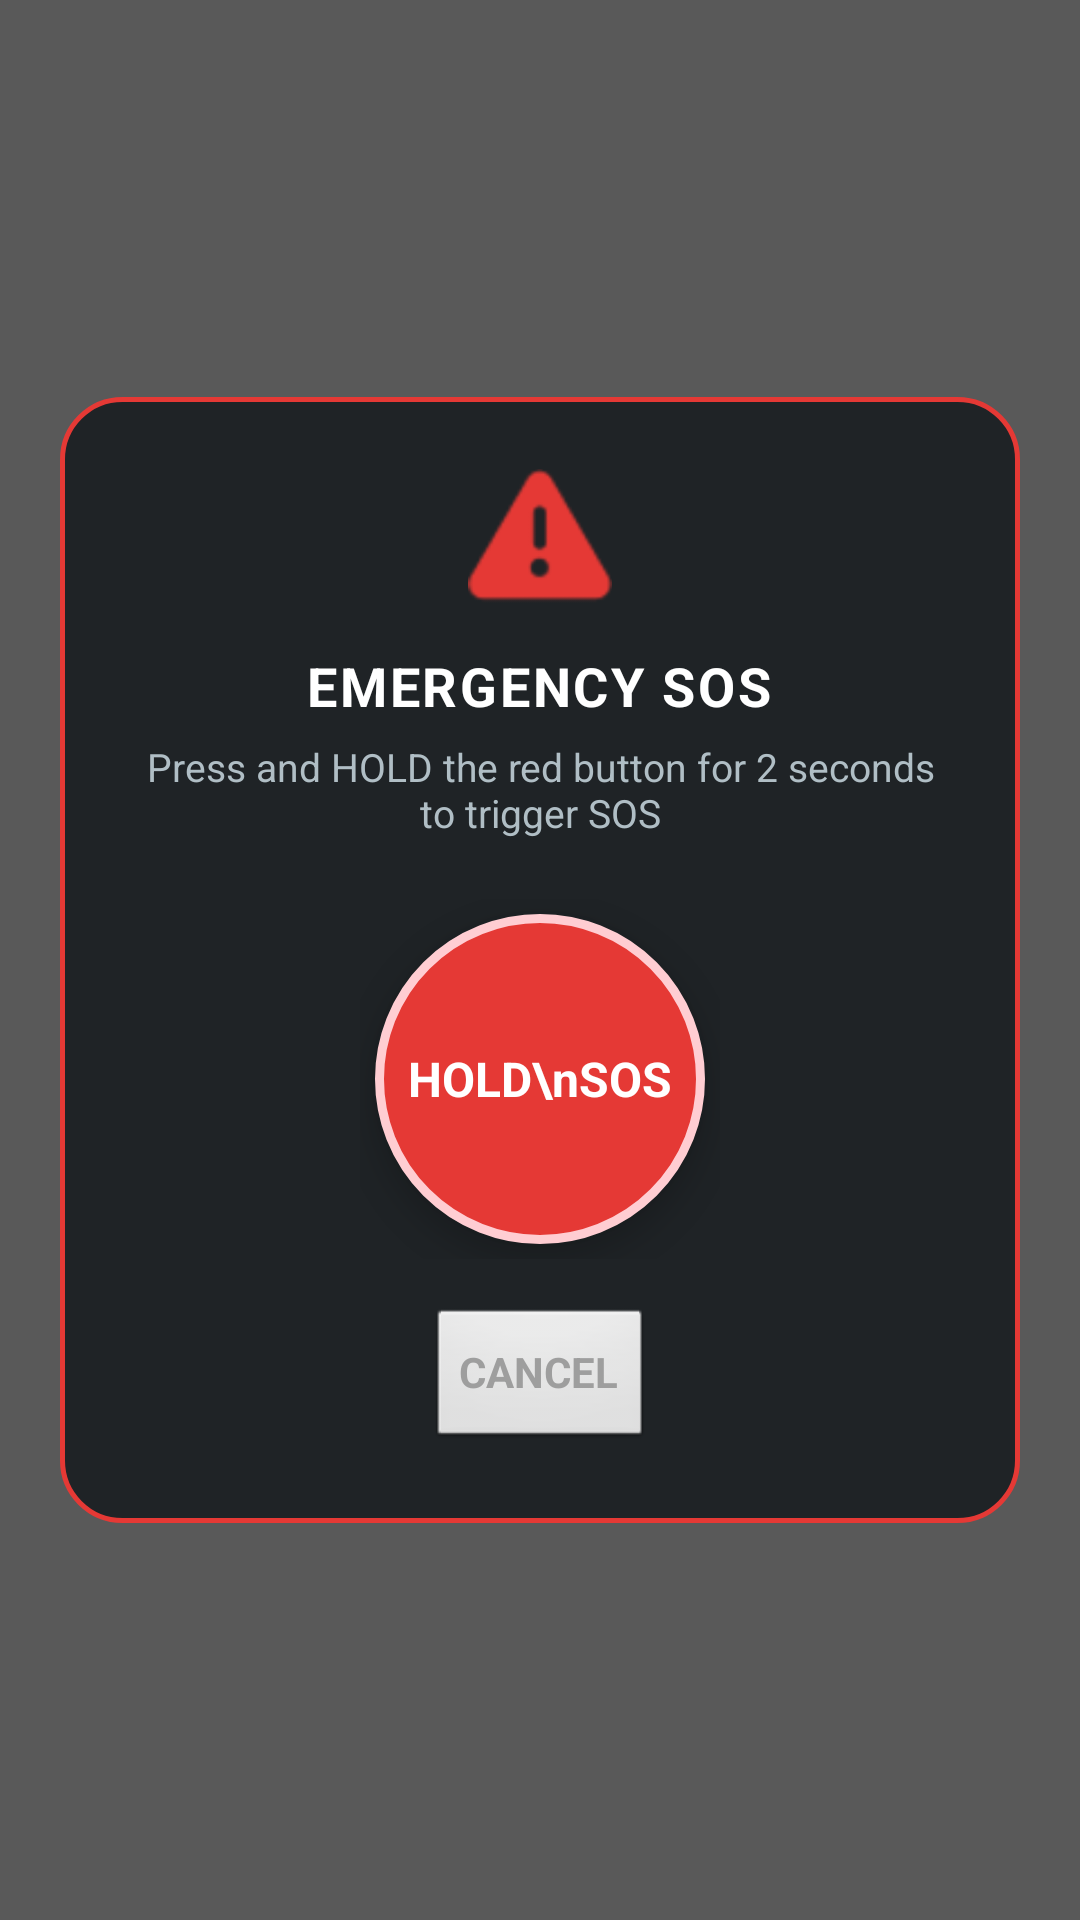

Where icons sit on this 1080×1920 app screen, as [left=x1, top=y1, right=x2, bottom=y2]:
alert: [left=468, top=469, right=612, bottom=600]
